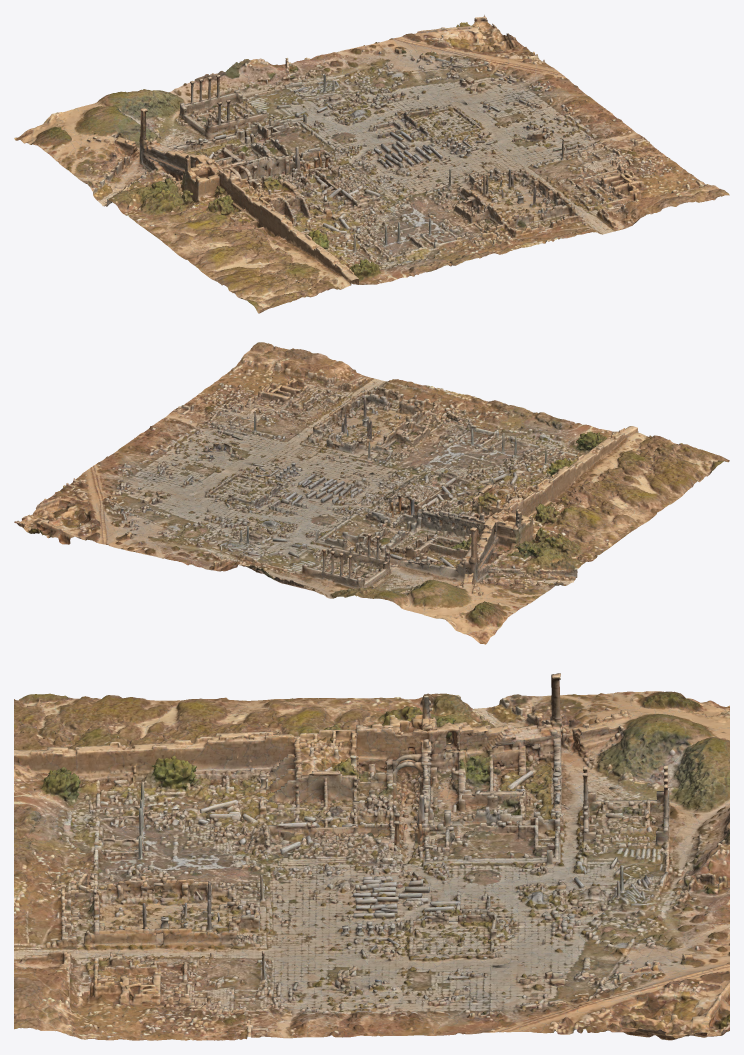
3 views of the same model, one above another, from view 1: azimuth 30°, elevation 25°; view 2: azimuth 150°, elevation 25°; view 3: azimuth 270°, elevation 25° (orthographic). The views are drawn at different scales.
Visible parts, largest first — view 1: LBY_002_M9_OldForum; view 2: LBY_002_M9_OldForum; view 3: LBY_002_M9_OldForum.
Boxes of the visible parts, <box> form: LBY_002_M9_OldForum: <box>14,15,729,313</box>; LBY_002_M9_OldForum: <box>14,342,729,644</box>; LBY_002_M9_OldForum: <box>14,673,729,1040</box>.
Size of the model in its own units: 122 by 14.75 by 110.
1 material, 1 textured.
